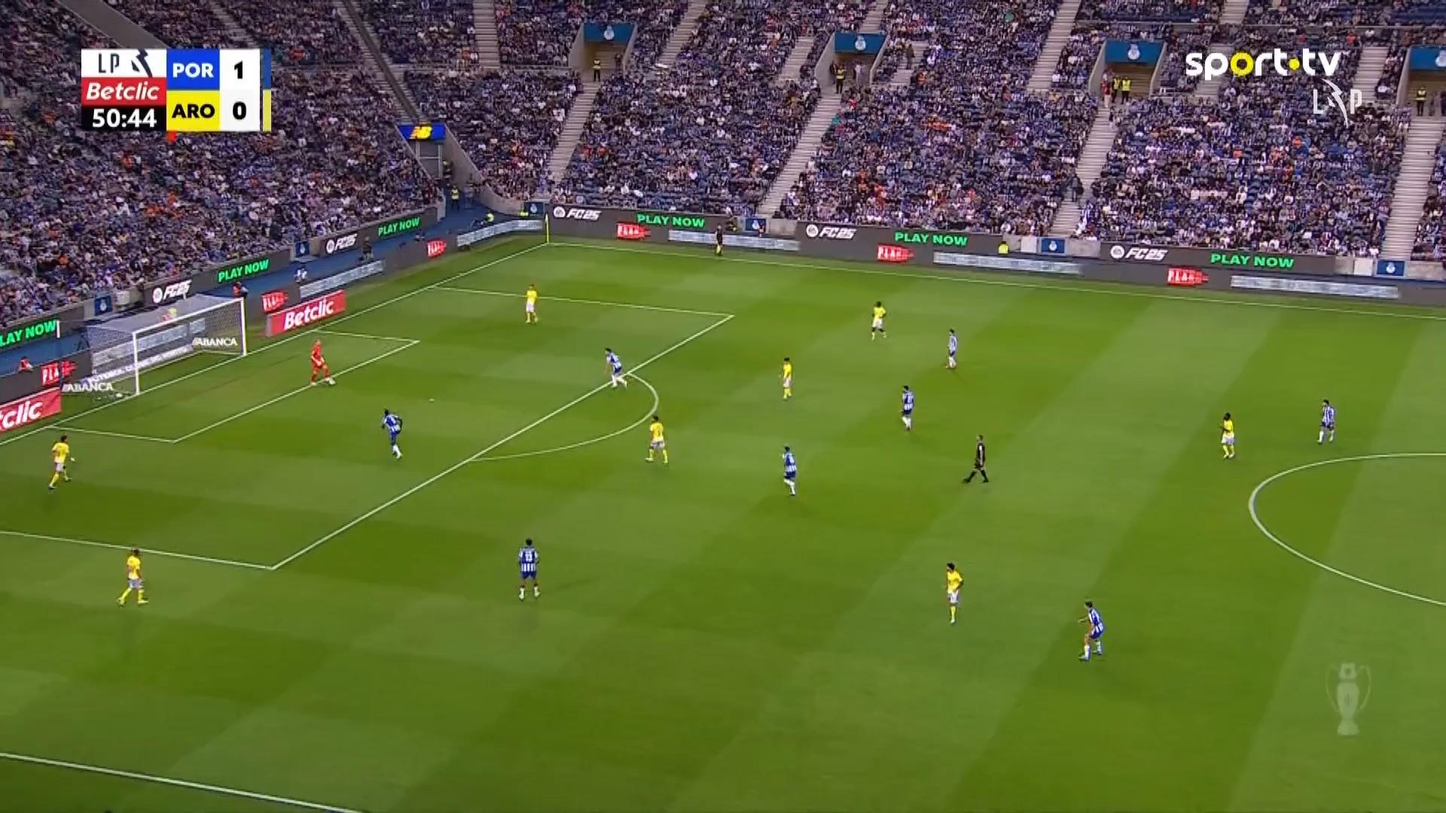ball: (327, 377, 335, 385)
goalkeeper: (309, 338, 336, 385)
player: (116, 547, 149, 606), (1077, 600, 1105, 661), (47, 434, 75, 490), (516, 537, 540, 600), (644, 413, 668, 464), (944, 561, 963, 625), (380, 407, 403, 459), (603, 346, 627, 388), (1316, 397, 1336, 443), (780, 444, 797, 495), (1218, 411, 1236, 458), (869, 300, 887, 340), (899, 384, 914, 431), (779, 356, 793, 400), (523, 283, 538, 324), (944, 327, 958, 368)
referee: (962, 433, 989, 483), (712, 224, 724, 256)
